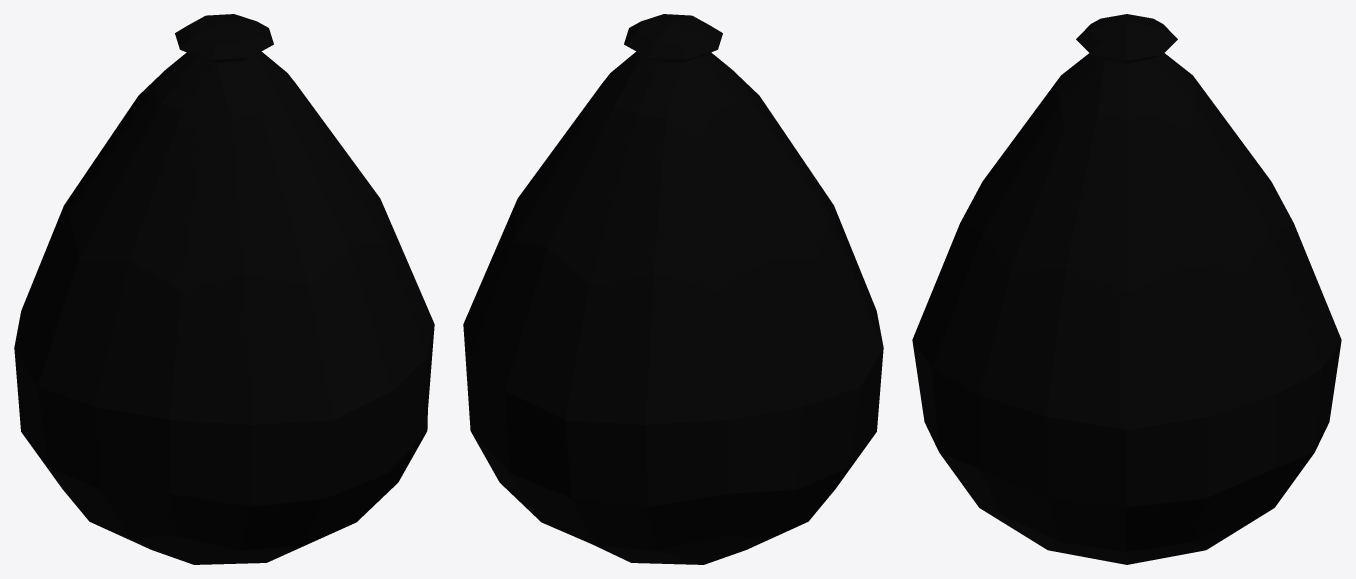
The model's file is sacPoubelle1.fbx.
The picture shows the model from 3 angles, left to right: view 1: azimuth 30°, elevation 25°; view 2: azimuth 150°, elevation 25°; view 3: azimuth 270°, elevation 25°; orthographic projection.
Visible parts, largest first — view 1: Cube.018; view 2: Cube.018; view 3: Cube.018.
Part boxes in pixels (x1=…): Cube.018: x1=14, y1=14, x2=434, y2=564; Cube.018: x1=463, y1=14, x2=883, y2=564; Cube.018: x1=912, y1=14, x2=1341, y2=564.
Bounding box in the file's own units: 339 × 456 × 339.
1 material, 1 textured.
